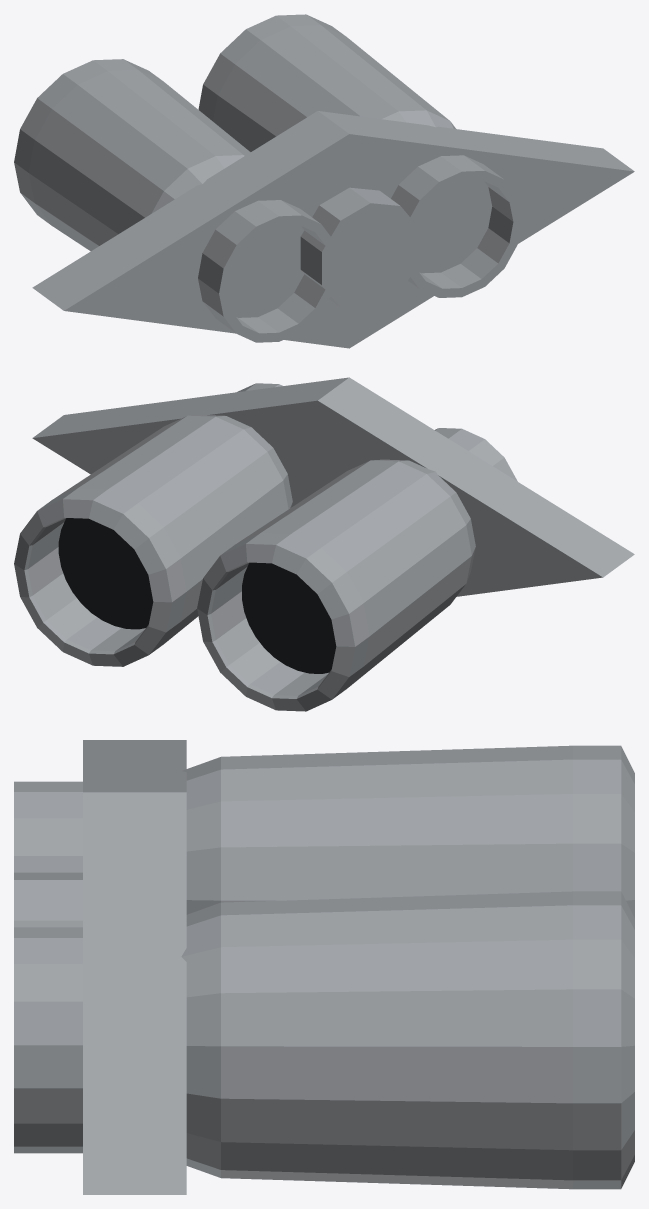
The model's file is catback_sport.glb.
The picture shows the model from 3 angles, top to bottom: view 1: azimuth 30°, elevation 25°; view 2: azimuth 150°, elevation 25°; view 3: azimuth 270°, elevation 25°; orthographic projection. The views are drawn at different scales.
Parts seen in each view (by area): view 1: model; view 2: model; view 3: model.
Boxes of the visible parts, x1,y1,x2,y2 form: model: (14,14,634,348); model: (14,377,634,711); model: (14,740,634,1194).
Size of the model in its own units: 0.312 by 0.112 by 0.18.
Materials: 2 (1 with a texture image).
